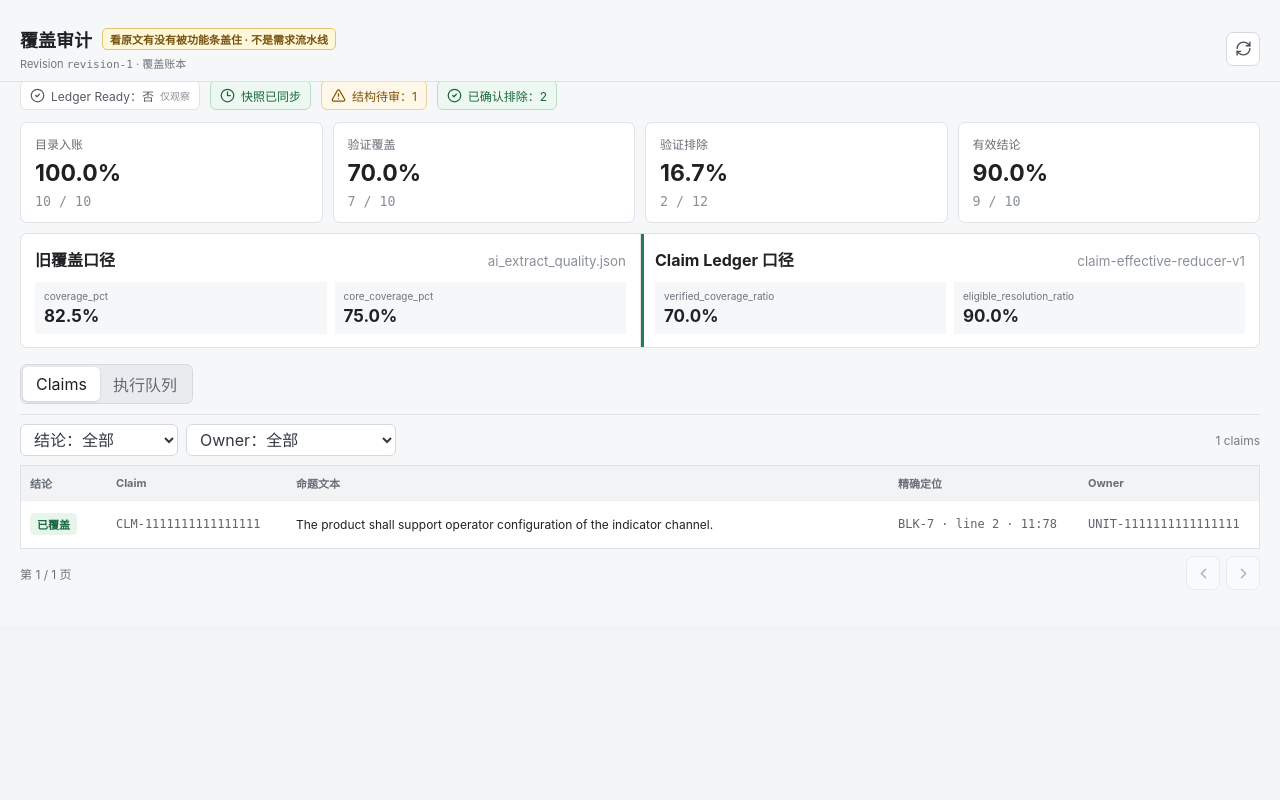
Test: ClaimLedger › discards mismatched detail responses and refetches against one new revision
Click the row with test id "claim-row".
click(640, 524)  # box [21,500,1259,548]
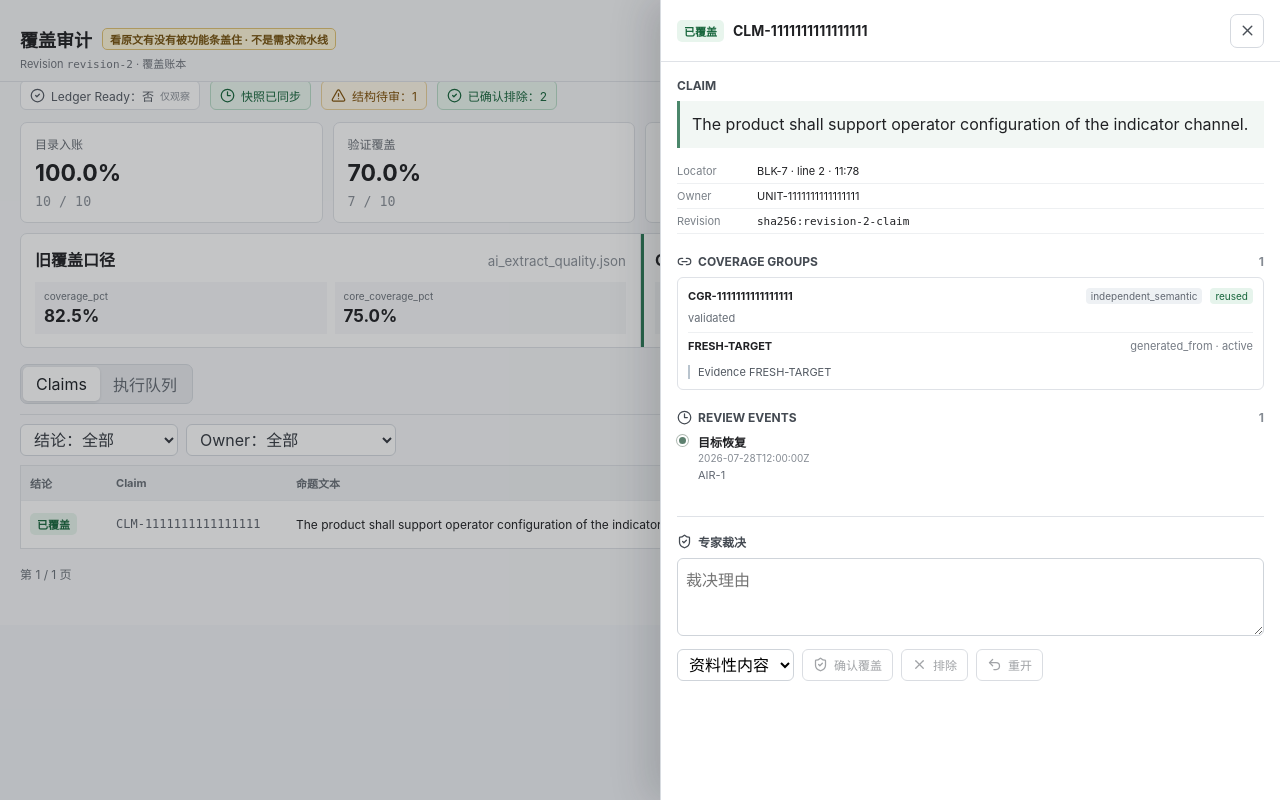
expect the dialog with test id "claim-detail" shows "FRESH-TARGET": met, box [688,339,772,353]
